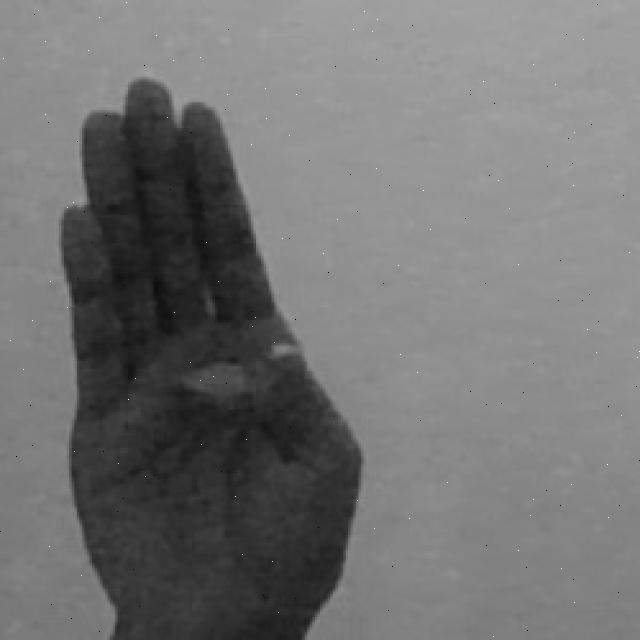B: (66, 77, 368, 640)
